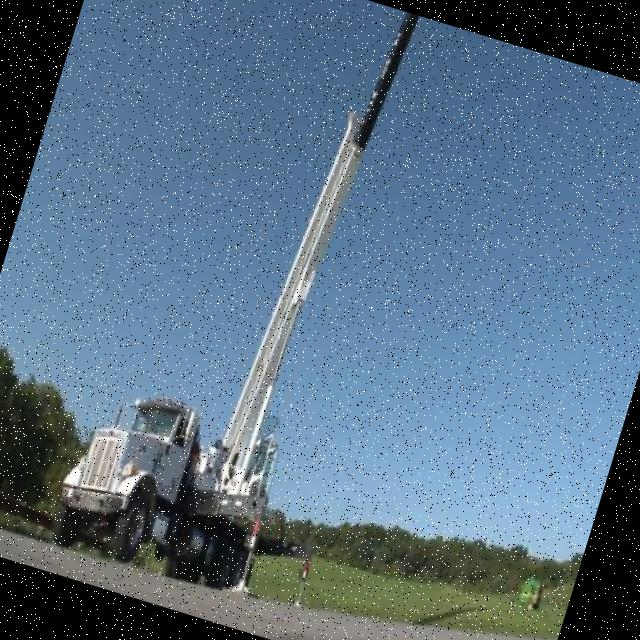Mobile Crane: (40, 0, 449, 613)
